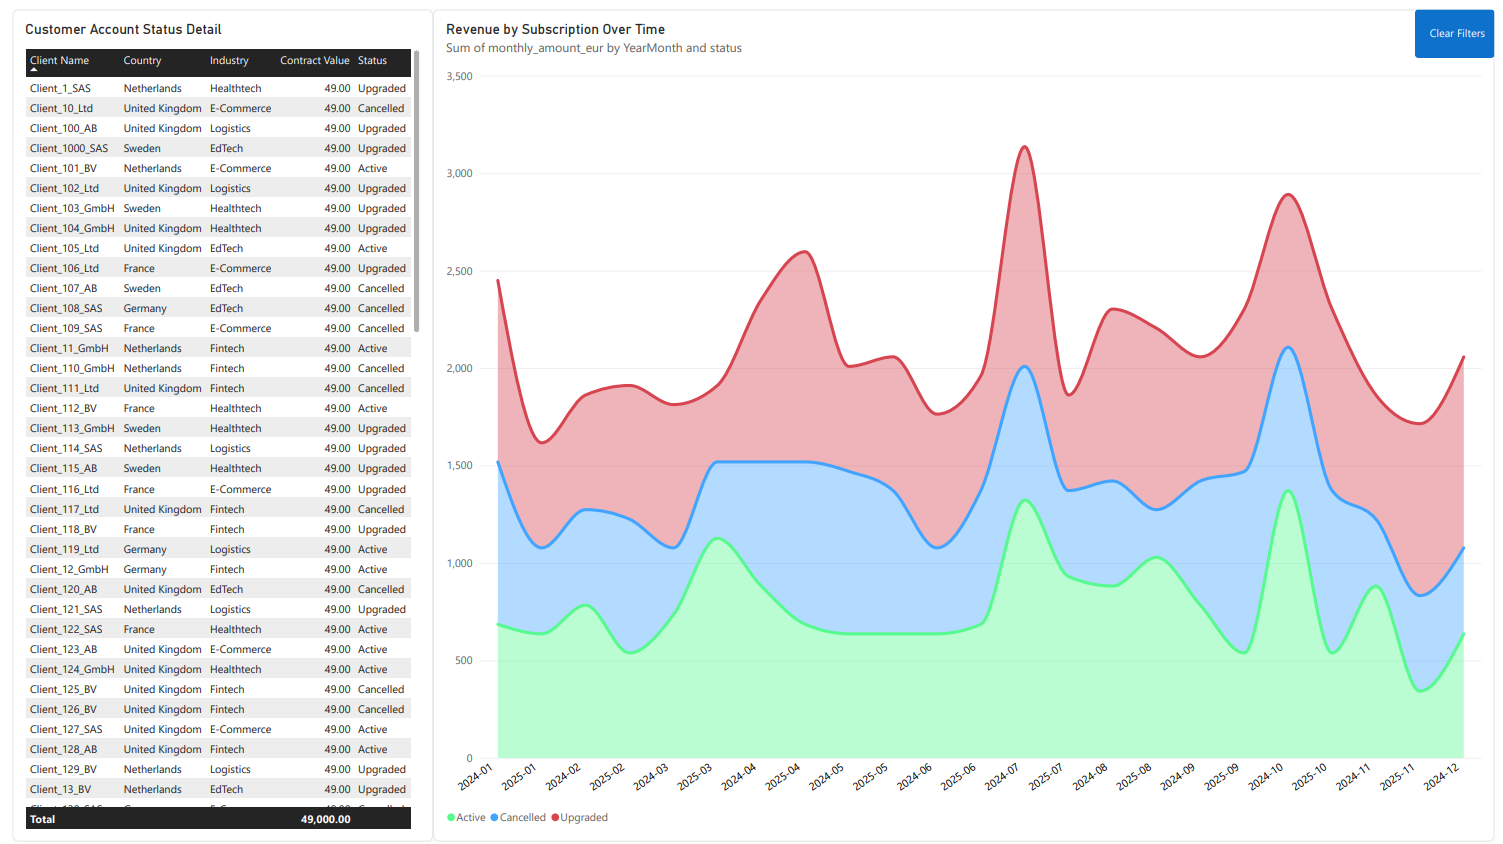

This screenshot's page, from the dashboard's own definition file:
{"tool":"powerbi","page":{"name":"Cohort Retention Analysis","canvas":[1920,1080],"ordinal":2},"visuals":[{"type":"stackedAreaChart","title":"Revenue by Subscription Over Time","fields":{"Category":["dim_date.YearMonth"],"Series":["public fact_subscriptions.status"],"Y":["Sum(public fact_subscriptions.monthly_amount_eur)"]},"box":[545,0,1375,1080],"z":0},{"type":"tableEx","title":"Customer Account Status Detail","fields":{"Values":["public dim_customers.company_name","public dim_customers.country","public dim_customers.industry","Sum(public fact_subscriptions.monthly_amount_eur)","public fact_subscriptions.status"]},"box":[0,0,545,1080],"z":1},{"type":"actionButton","box":[1816.7,0,103.3,63.3],"z":2}]}

Visuals, with their boxes in screenshot pixels (x1, y1, x2, y2), scaled from the page's 1920x1080 canvas onto the 1503x844 screenshot:
"Revenue by Subscription Over Time" stackedAreaChart: left=427, top=0, right=1502, bottom=843
"Customer Account Status Detail" tableEx: left=0, top=0, right=427, bottom=843
actionButton: left=1422, top=0, right=1502, bottom=49
